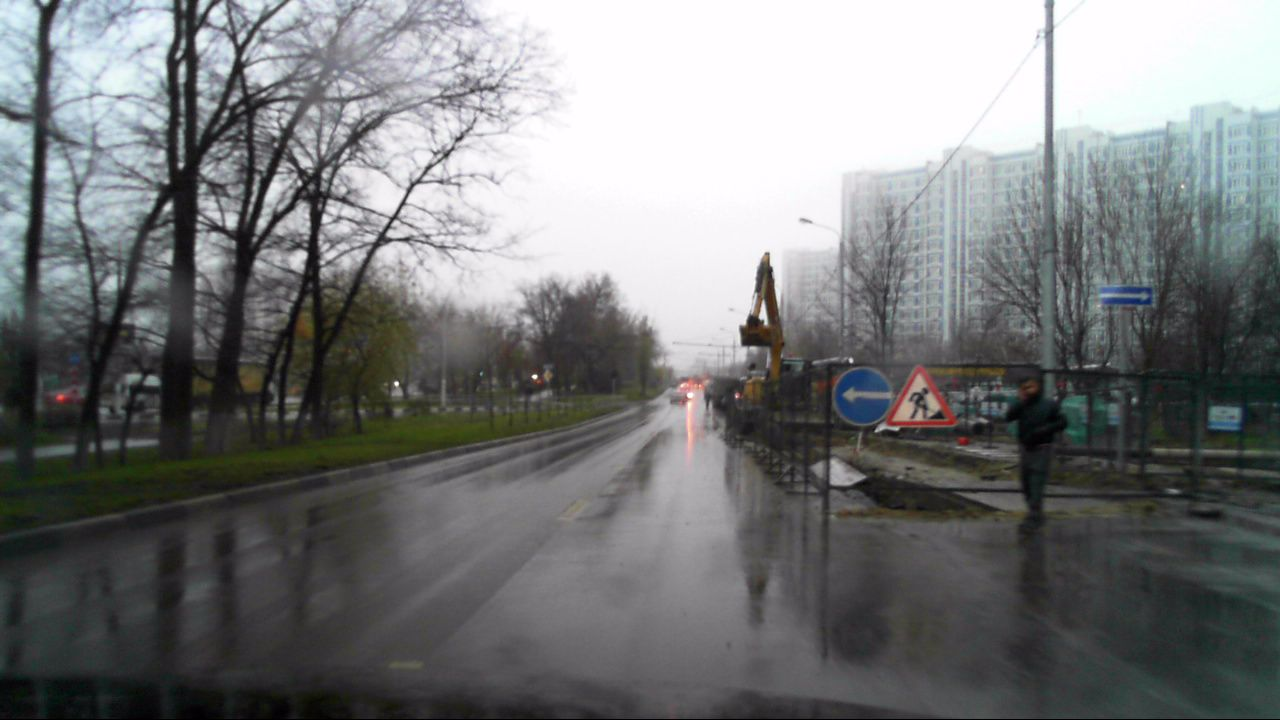One-Way Traffic: (1099, 285, 1155, 306)
Turn Left: (833, 367, 891, 426)
